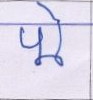e_matra: (36, 2, 62, 21)
